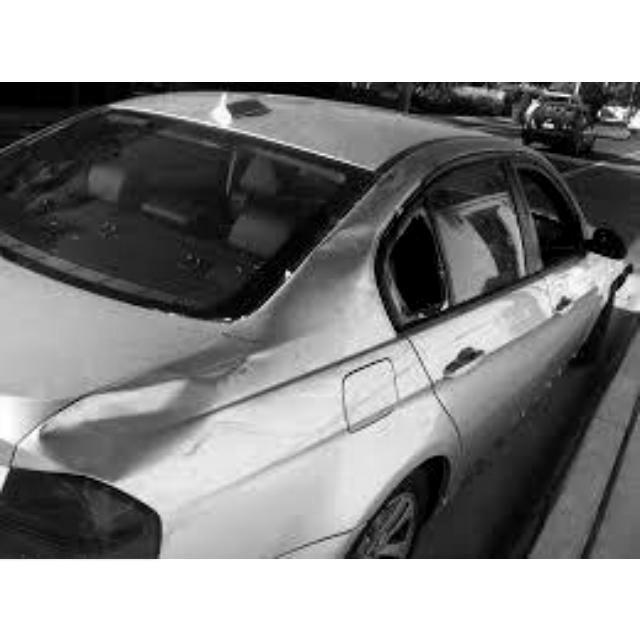quaterpanel-dent: (87, 362, 357, 541)
